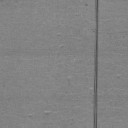surface scratch: (93, 0, 98, 128)
